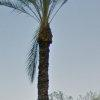Palm tree: (19, 5, 66, 97)
